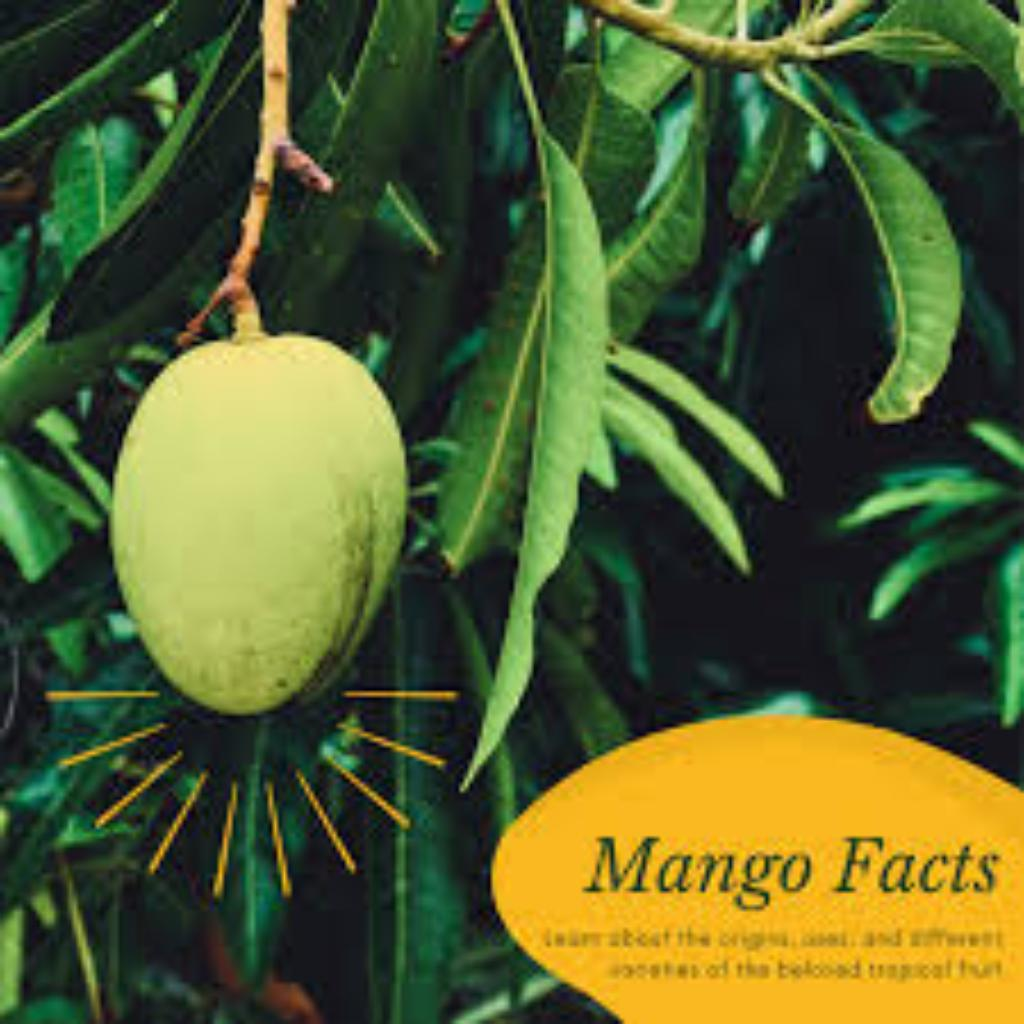mango: (109, 309, 410, 710)
